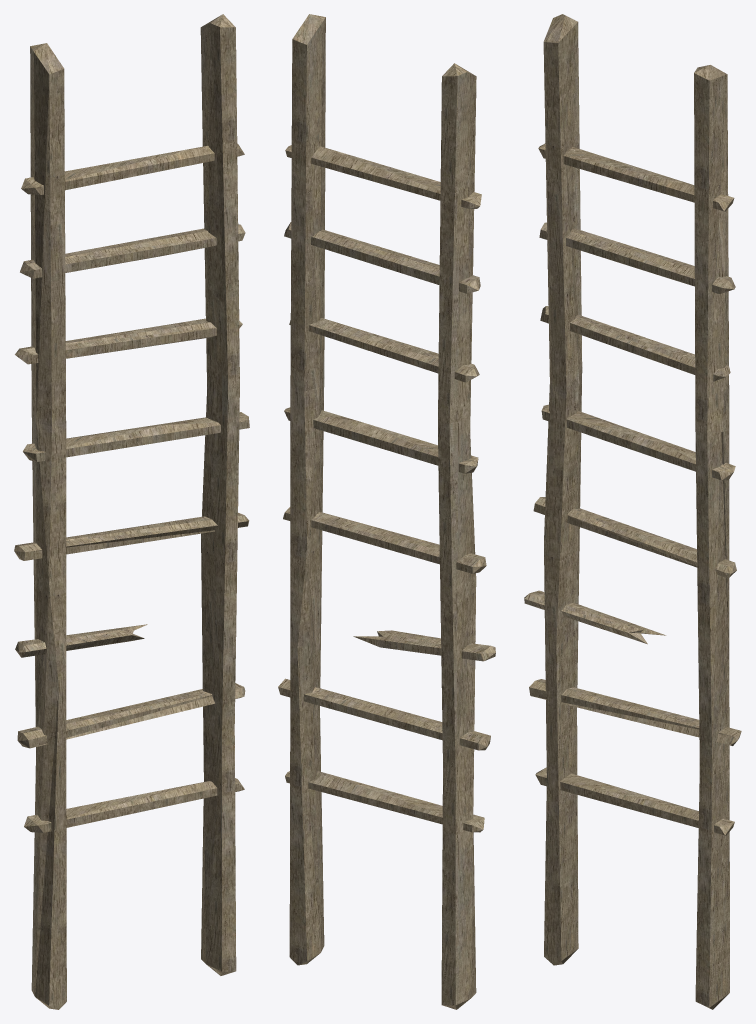
The model's file is Ladder.fbx.
The picture shows the model from 3 angles, left to right: view 1: azimuth 30°, elevation 25°; view 2: azimuth 150°, elevation 25°; view 3: azimuth 330°, elevation 25°; orthographic projection.
Visible parts, largest first — view 1: Model; view 2: Model; view 3: Model.
Part boxes in pixels (box(x1,y1,x2,y2)): Model: box(14, 14, 249, 1009); Model: box(278, 14, 495, 1009); Model: box(524, 14, 741, 1009).
Bounding box in the file's own units: 19.88 × 82.64 × 5.39.
